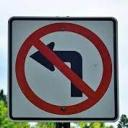NoVirarEsquerda: (16, 21, 113, 115)
